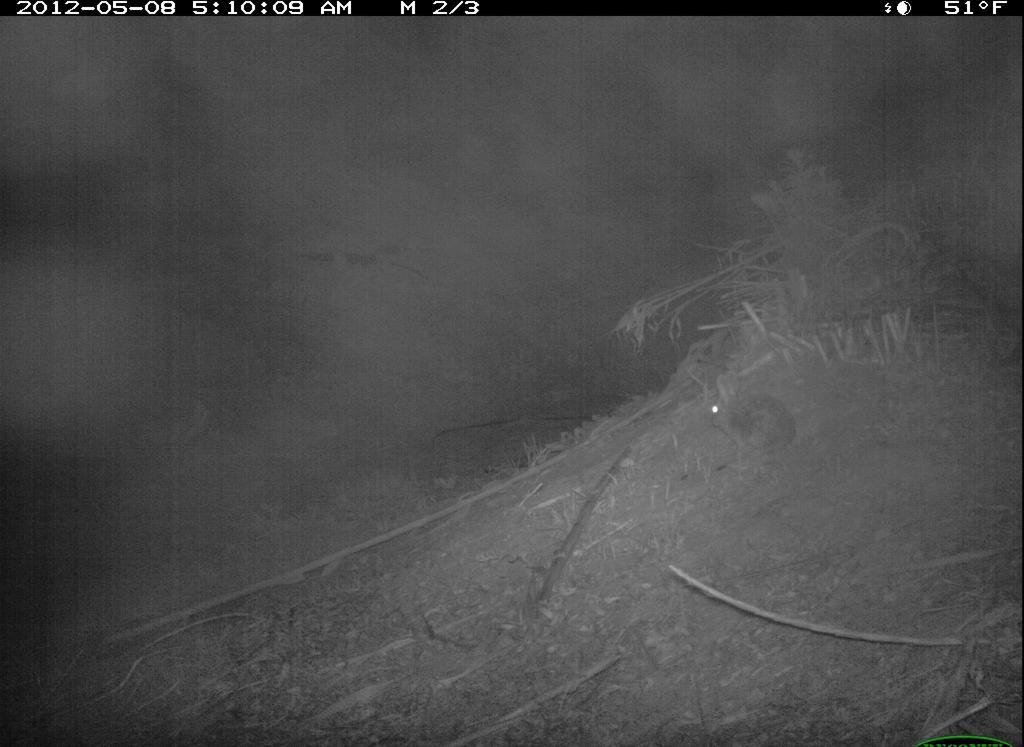rabbit: (705, 365, 798, 460)
